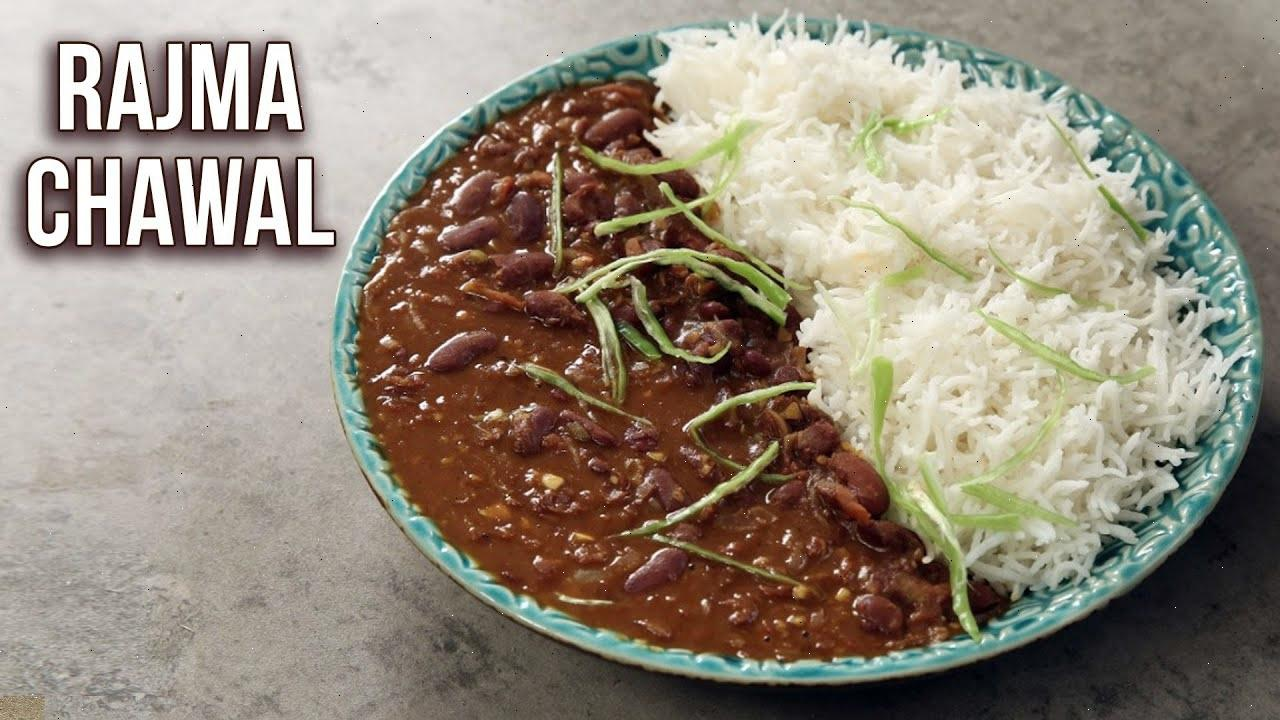rajma: (392, 184, 760, 624)
rice: (788, 58, 1202, 444)
